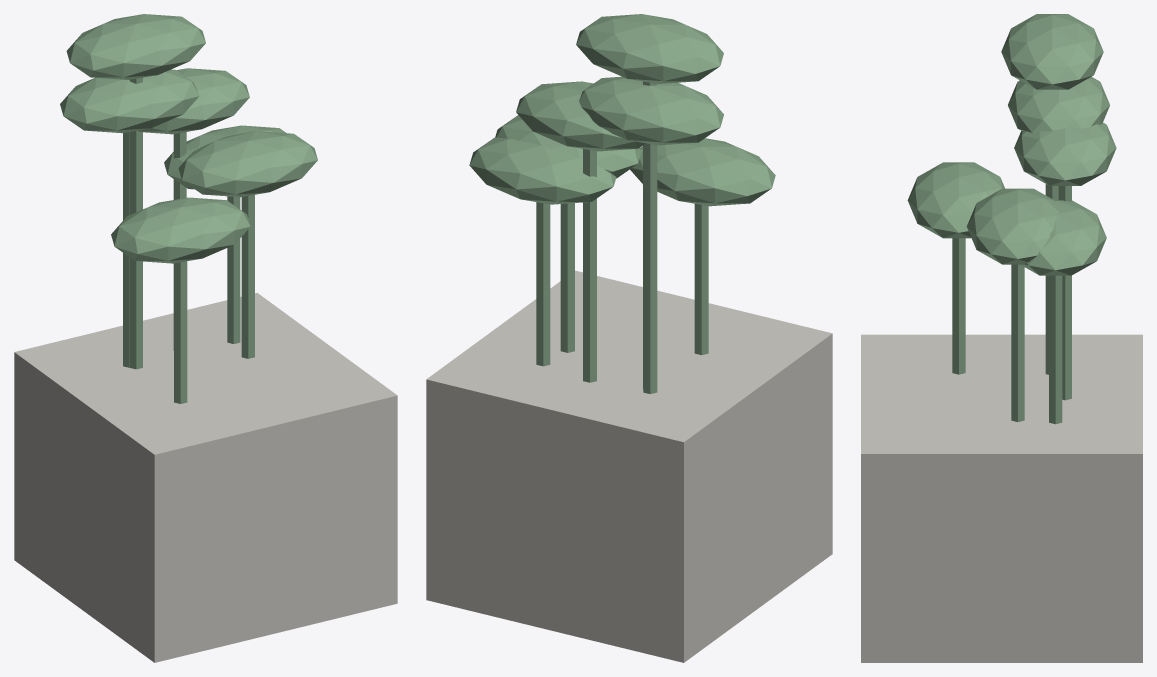
File: planter_02.glb
The picture shows the model from 3 angles, left to right: view 1: azimuth 30°, elevation 25°; view 2: azimuth 150°, elevation 25°; view 3: azimuth 270°, elevation 25°; orthographic projection. The views are drawn at different scales.
Visible parts, largest first — view 1: pot, leaf2, leaf3, leaf4, leaf5, leaf0, stem2, stem4, stem3, stem1, stem5, leaf1 (+1 smaller); view 2: pot, leaf2, leaf5, leaf3, leaf1, leaf0, stem5, stem0, stem1, stem3, stem4, leaf4; view 3: pot, leaf2, leaf4, leaf3, leaf0, leaf5, leaf1, stem4, stem1, stem3, stem0, stem2.
Boxes of the visible parts, x1,y1,x2,y2 form: pot: (14,293,397,662); leaf2: (66,14,205,79); leaf3: (111,197,250,263); leaf4: (178,131,317,197); leaf5: (60,69,199,133); leaf0: (138,68,249,134); stem2: (129,77,142,369); stem4: (241,195,254,358); stem3: (174,261,187,403); stem1: (227,196,240,343); stem5: (123,132,129,367); leaf1: (164,125,286,189); pot: (426,270,832,662); leaf2: (576,14,723,83); leaf5: (579,76,723,145); leaf3: (630,138,775,206); leaf1: (469,137,616,204); leaf0: (516,81,645,151); stem5: (643,143,657,394); stem0: (583,149,596,382); stem1: (536,202,550,366); stem3: (694,204,708,355); stem4: (560,203,574,352); leaf4: (495,115,641,178); pot: (861,334,1142,662); leaf2: (1001,14,1103,89); leaf4: (966,188,1058,264); leaf3: (907,162,1004,238); leaf0: (1014,122,1116,185); leaf5: (1008,77,1109,133); leaf1: (1020,200,1106,275); stem4: (1011,264,1024,421); stem1: (1049,275,1062,424); stem3: (952,238,965,374); stem0: (1058,186,1071,400); stem2: (1045,184,1058,374).
Bounding box in the file's own units: 0.55 × 1.19 × 0.55.
